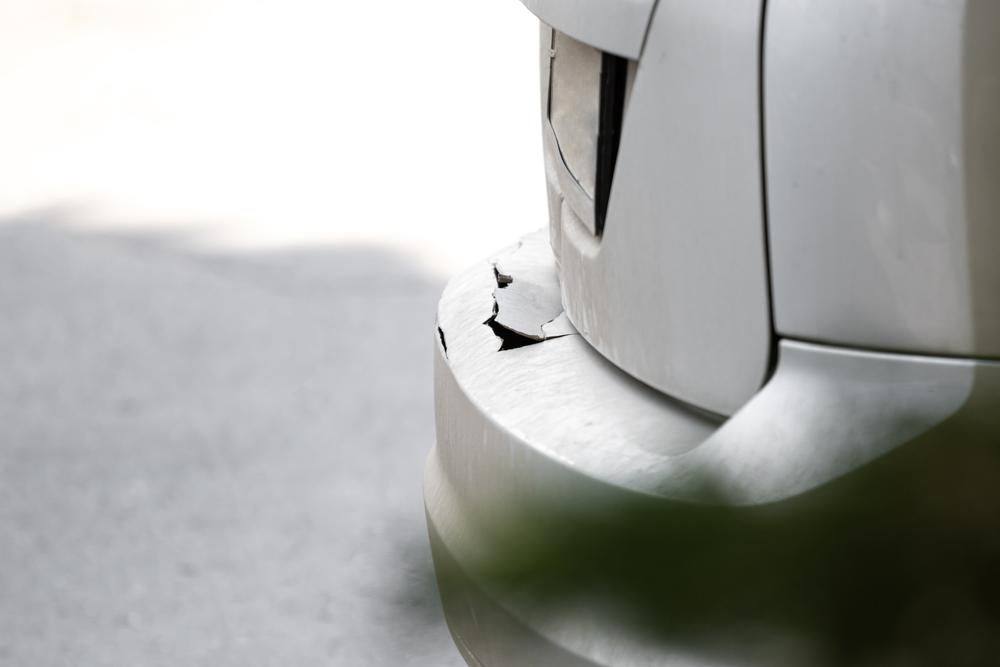crack: (483, 262, 588, 353), (545, 27, 592, 202), (435, 324, 449, 358)
